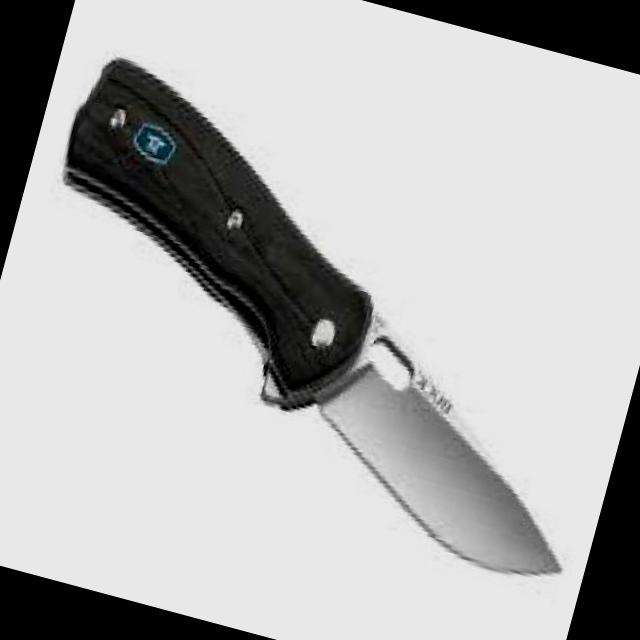knife: (123, 93, 640, 640)
